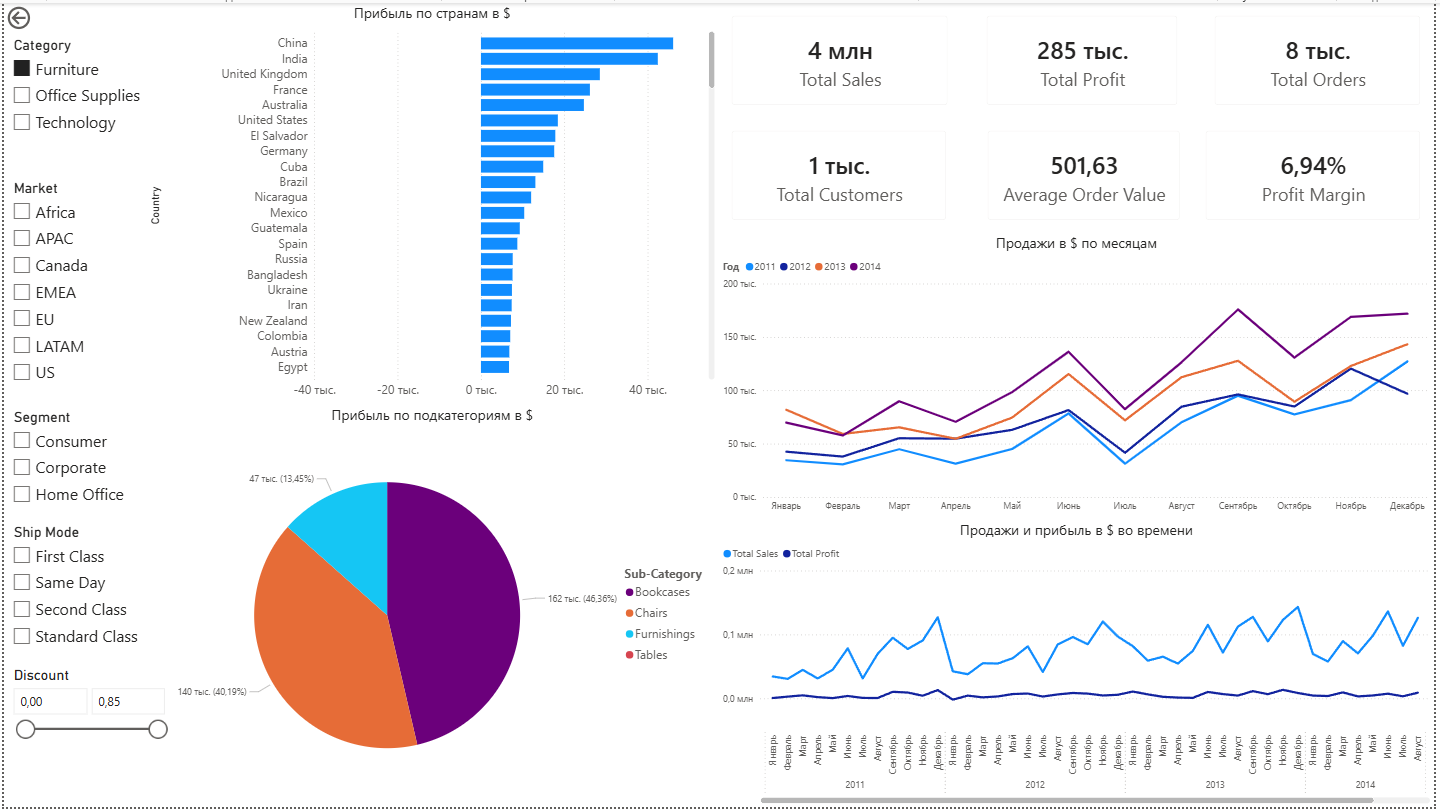

Layout of this report page (visuals, bound fields, positions):
{"tool":"powerbi","page":{"name":"Страница 1","canvas":[1920,1080],"ordinal":0},"visuals":[{"type":"cardVisual","fields":{"Data":["data_processed.Total Sales"]},"box":[960,0,324.9,154.7],"z":0,"group":"g1"},{"type":"cardVisual","fields":{"Data":["data_processed.Total Profit"]},"box":[1303.2,0.1,290.2,154.7],"z":1000,"group":"g1"},{"type":"lineChart","title":"Продажи и прибыль в $ во времени","fields":{"Y":["data_processed.Total Sales","data_processed.Total Profit"],"Category":["calendar.Year","calendar.Date.Изменение.Иерархия дат.Месяц"]},"box":[960,694,960,386],"z":1000},{"type":"cardVisual","fields":{"Data":["data_processed.Total Orders"]},"box":[1609.4,0.1,310.6,154.7],"z":2000,"group":"g1"},{"type":"pieChart","title":"Прибыль по подкатегориям в $","fields":{"Y":["data_processed.Total Profit"],"Category":["data_products.Sub-Category"]},"box":[191.2,539.7,768.8,539.7],"z":2000},{"type":"clusteredBarChart","title":"Прибыль по странам в $","fields":{"Y":["data_processed.Total Profit"],"Category":["data_processed.Country"]},"box":[191.2,0,768.8,539.7],"z":3000},{"type":"cardVisual","fields":{"Data":["data_processed.Total Customers"]},"box":[960,154.7,323,154.7],"z":3000,"group":"g1"},{"type":"group","id":"g1","title":"Группа 1","box":[960,0,960,309.3],"z":4000},{"type":"cardVisual","fields":{"Data":["data_processed.Average Order Value"]},"box":[1303.8,154.7,292.8,154.7],"z":4000,"group":"g1"},{"type":"cardVisual","fields":{"Data":["data_processed.Profit Margin"]},"box":[1596.5,154.7,323,154.7],"z":5000,"group":"g1"},{"type":"lineChart","title":"Продажи в $ по месяцам","fields":{"Y":["data_processed.Total Sales"],"Category":["calendar.Date.Изменение.Иерархия дат.Месяц"],"Series":["calendar.Date.Изменение.Иерархия дат.Год"]},"box":[960,309.3,960,385],"z":5000},{"type":"actionButton","box":[0,0,100,40],"z":6000},{"type":"slicer","fields":{"Values":["data_processed.Category"]},"box":[0,40.1,190.7,192.3],"z":7000},{"type":"slicer","fields":{"Values":["data_processed.Market"]},"box":[0,232.4,190.7,307.7],"z":8000},{"type":"slicer","fields":{"Values":["data_processed.Segment"]},"box":[0,540.1,190.7,153.9],"z":9000},{"type":"slicer","fields":{"Values":["data_processed.Ship Mode"]},"box":[0,694,190.7,192.3],"z":10000},{"type":"slicer","fields":{"Values":["data_processed.Discount"]},"box":[0,887.1,227.6,192.6],"z":10500}]}

Visuals, with their boxes on the page's 1920x1080 design canvas (x1, y1, x2, y2). These are canvas units, not pixel positions in the 1440x812 screenshot, which may show the page scaled, cropped or inside an application window:
cardVisual - data_processed.Total Sales: x1=960 y1=0 x2=1285 y2=155
cardVisual - data_processed.Total Profit: x1=1303 y1=0 x2=1593 y2=155
"Продажи и прибыль в $ во времени" lineChart: x1=960 y1=694 x2=1920 y2=1080
cardVisual - data_processed.Total Orders: x1=1609 y1=0 x2=1920 y2=155
"Прибыль по подкатегориям в $" pieChart: x1=191 y1=540 x2=960 y2=1079
"Прибыль по странам в $" clusteredBarChart: x1=191 y1=0 x2=960 y2=540
cardVisual - data_processed.Total Customers: x1=960 y1=155 x2=1283 y2=309
"Группа 1" group: x1=960 y1=0 x2=1920 y2=309
cardVisual - data_processed.Average Order Value: x1=1304 y1=155 x2=1597 y2=309
cardVisual - data_processed.Profit Margin: x1=1596 y1=155 x2=1920 y2=309
"Продажи в $ по месяцам" lineChart: x1=960 y1=309 x2=1920 y2=694
actionButton: x1=0 y1=0 x2=100 y2=40
slicer - data_processed.Category: x1=0 y1=40 x2=191 y2=232
slicer - data_processed.Market: x1=0 y1=232 x2=191 y2=540
slicer - data_processed.Segment: x1=0 y1=540 x2=191 y2=694
slicer - data_processed.Ship Mode: x1=0 y1=694 x2=191 y2=886
slicer - data_processed.Discount: x1=0 y1=887 x2=228 y2=1080
